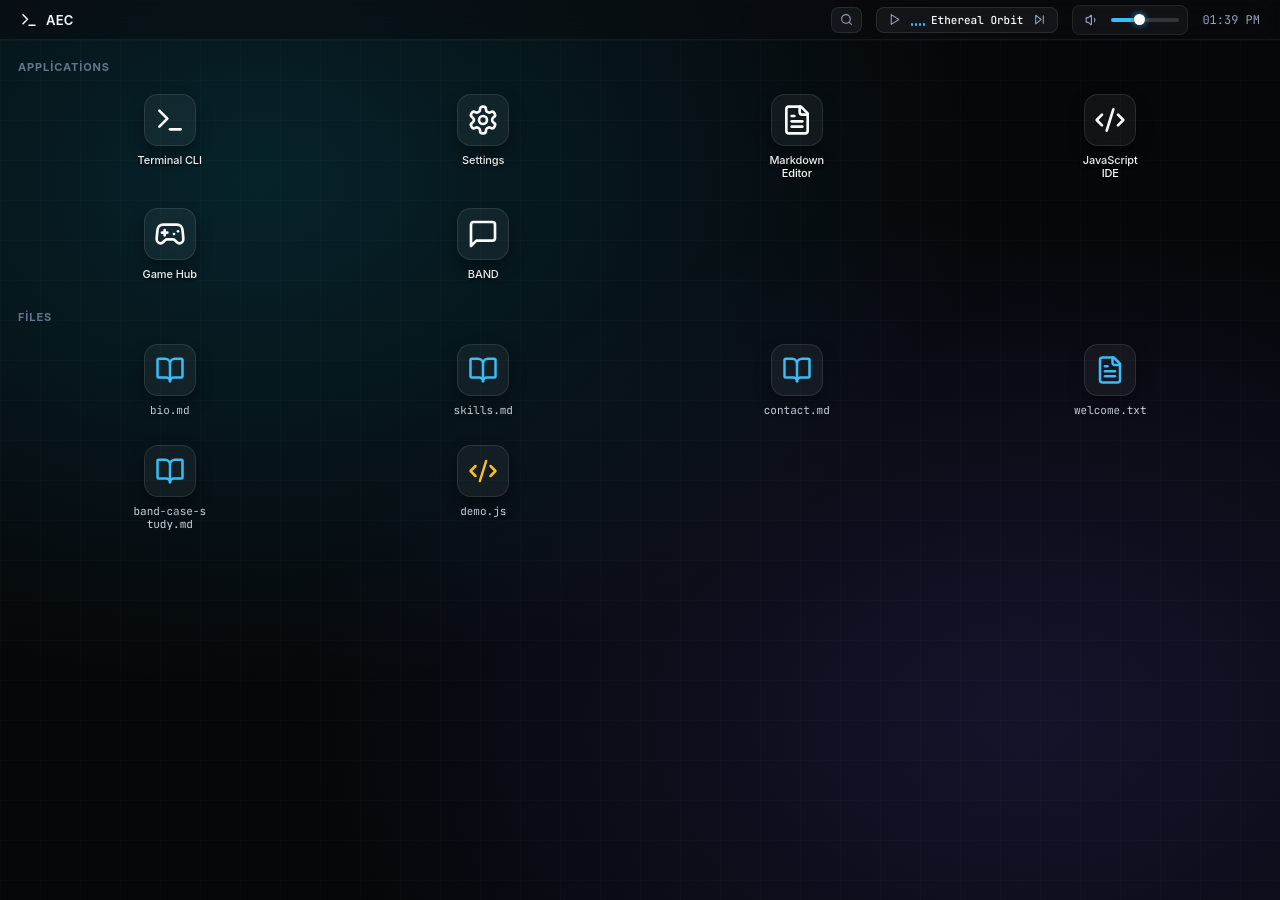
Test: Desktop Component › Mobile Springboard Mode › should open desktop context menu on mobile long-press (500ms)
Press the mouse on the element with test id "desktop-viewport" at (640, 450), box [0,0,1279,899]
Wait 500 ms
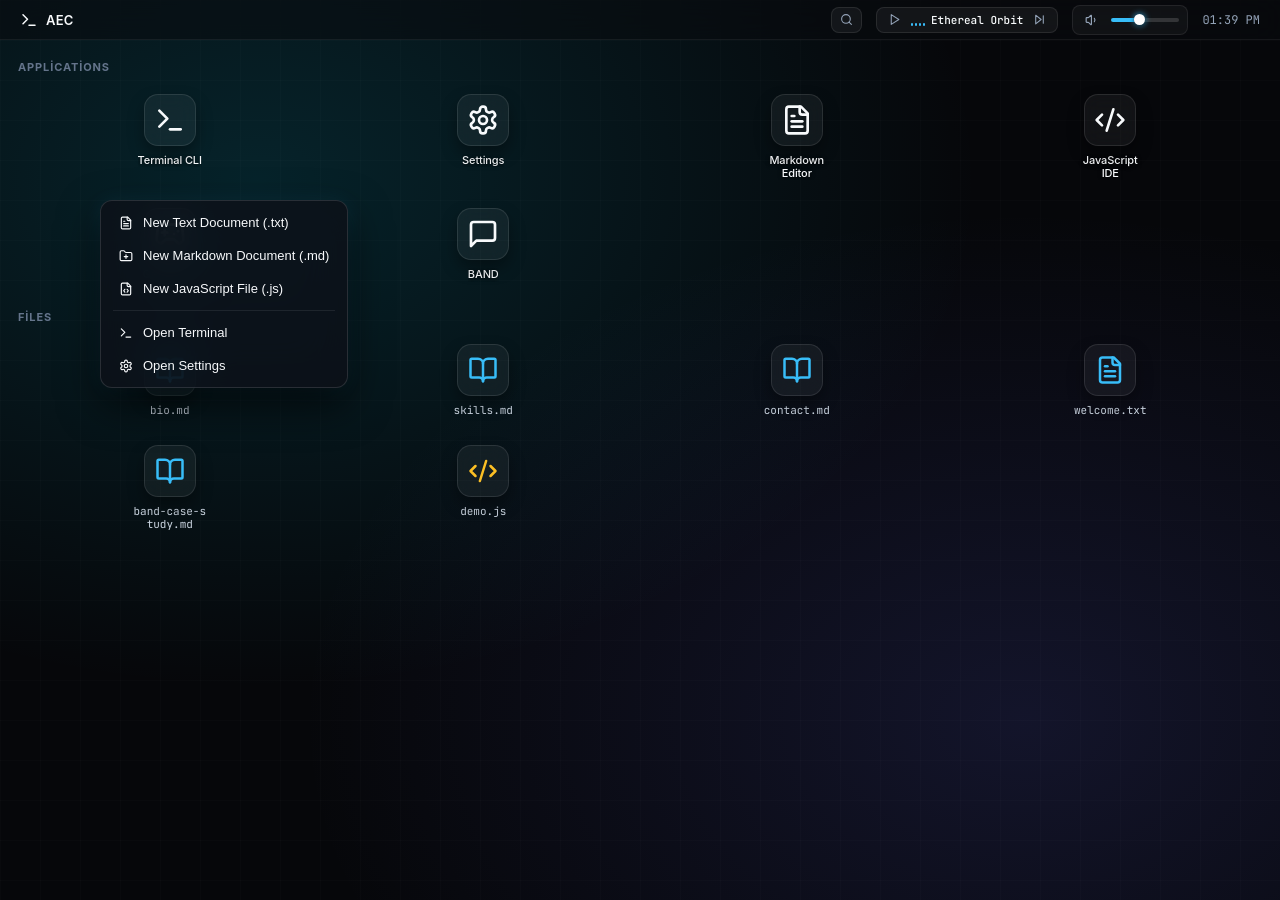
Expected: the menu named "Desktop Context Menu" is shown, [100,200,348,388]
